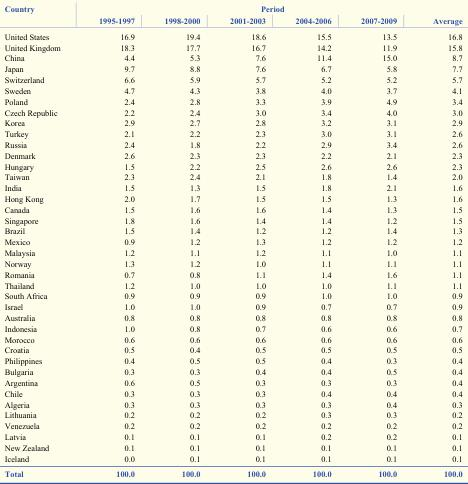table: (3, 4, 461, 478)
table column: (3, 4, 78, 478), (78, 4, 148, 478), (345, 4, 414, 478), (148, 4, 214, 478), (279, 4, 345, 478), (214, 4, 279, 478), (414, 4, 461, 478)
table column header: (3, 4, 461, 28)
table row: (3, 14, 461, 28), (3, 28, 461, 42), (3, 453, 461, 466), (3, 466, 461, 478), (3, 52, 461, 63), (3, 63, 461, 74), (3, 74, 461, 85), (3, 85, 461, 96), (3, 106, 461, 117), (3, 117, 461, 128), (3, 128, 461, 139), (3, 139, 461, 150), (3, 160, 461, 171), (3, 171, 461, 182), (3, 182, 461, 193), (3, 193, 461, 204), (3, 204, 461, 215), (3, 225, 461, 236), (3, 236, 461, 247), (3, 247, 461, 258), (3, 258, 461, 269), (3, 279, 461, 290), (3, 290, 461, 301), (3, 301, 461, 312), (3, 312, 461, 323), (3, 323, 461, 334), (3, 344, 461, 355), (3, 355, 461, 366), (3, 366, 461, 377), (3, 377, 461, 388), (3, 398, 461, 409), (3, 409, 461, 420), (3, 420, 461, 431), (3, 431, 461, 442), (3, 442, 461, 453), (3, 4, 461, 14), (3, 42, 461, 52), (3, 96, 461, 106), (3, 150, 461, 160), (3, 215, 461, 225), (3, 269, 461, 279), (3, 334, 461, 344), (3, 388, 461, 398)
table spanning cell: (78, 4, 414, 14), (3, 4, 78, 28), (414, 4, 461, 28)
